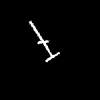double_crochet: (30, 21, 59, 61)
